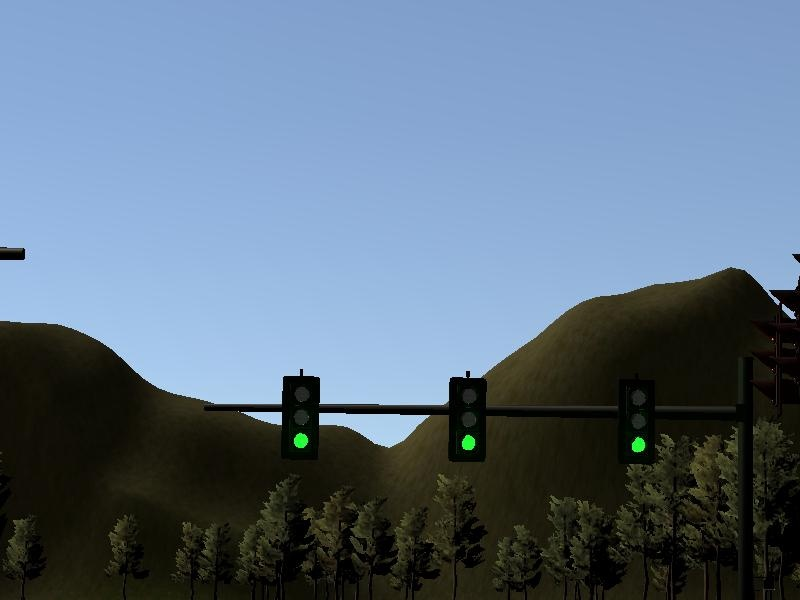GREEN: (447, 377, 488, 464), (283, 375, 321, 462), (619, 381, 657, 466)
